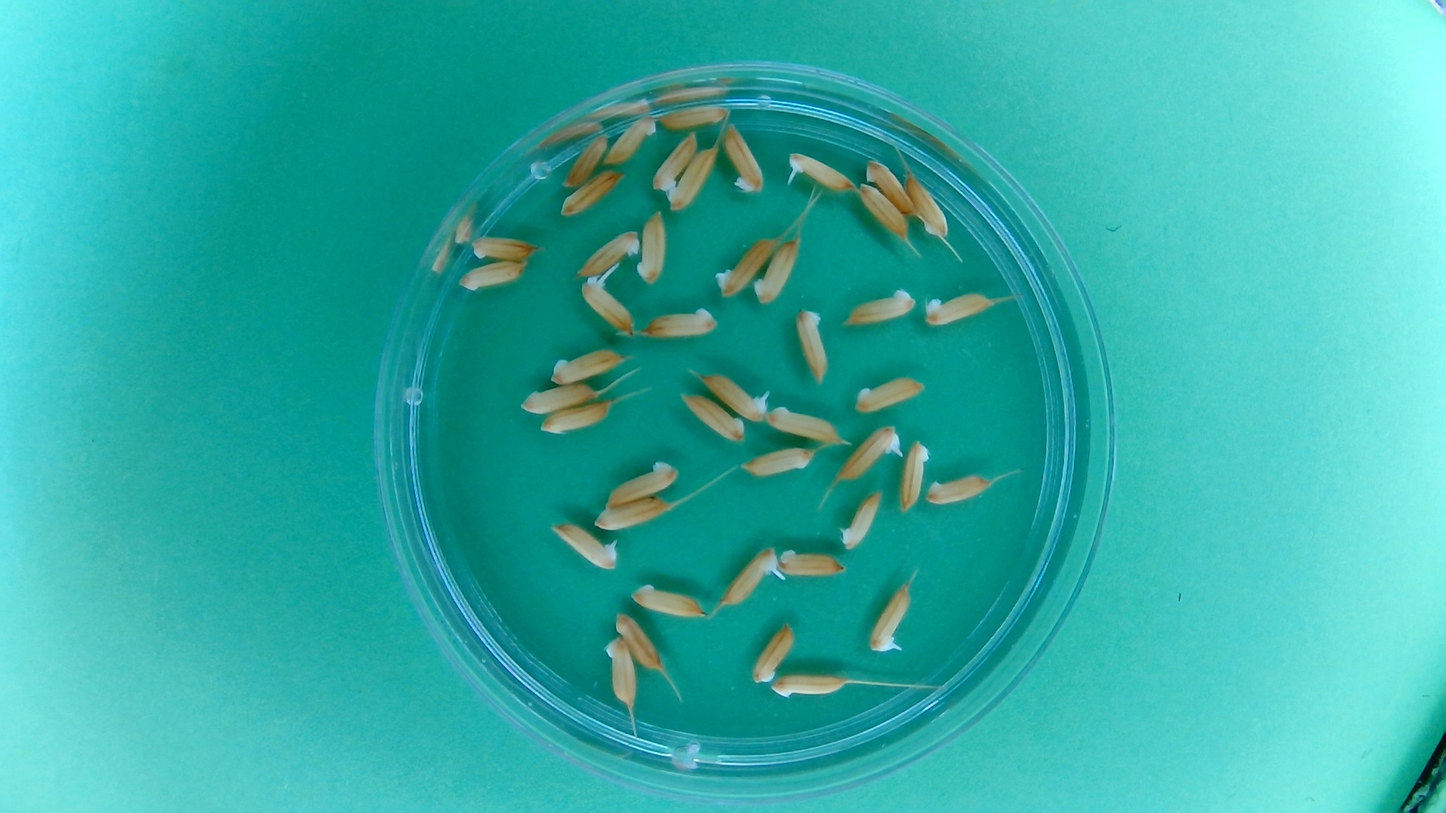no: (712, 233, 778, 299), (600, 457, 682, 507), (751, 232, 803, 306), (547, 519, 621, 571), (667, 143, 721, 214), (762, 402, 849, 446), (572, 226, 641, 279), (903, 168, 953, 241), (720, 119, 767, 196), (679, 391, 746, 444), (559, 168, 627, 220), (547, 344, 627, 387), (840, 285, 917, 329), (851, 371, 929, 414), (628, 580, 709, 621), (649, 128, 700, 193), (602, 113, 661, 168), (853, 180, 908, 239), (863, 156, 917, 215), (793, 303, 831, 386), (838, 486, 885, 552), (615, 610, 665, 672), (639, 304, 719, 342), (561, 132, 612, 190), (750, 620, 796, 684), (920, 289, 995, 328), (634, 206, 670, 287), (593, 495, 672, 531), (602, 635, 639, 710), (518, 382, 599, 416), (539, 400, 615, 436), (739, 445, 816, 480), (897, 437, 932, 513), (923, 471, 994, 508), (456, 260, 531, 294), (466, 232, 542, 265), (776, 546, 847, 580), (769, 670, 848, 700), (655, 101, 730, 132)
yes: (835, 422, 903, 482), (720, 545, 779, 607), (866, 580, 914, 654), (580, 273, 636, 336), (701, 371, 769, 422), (786, 149, 855, 193)
